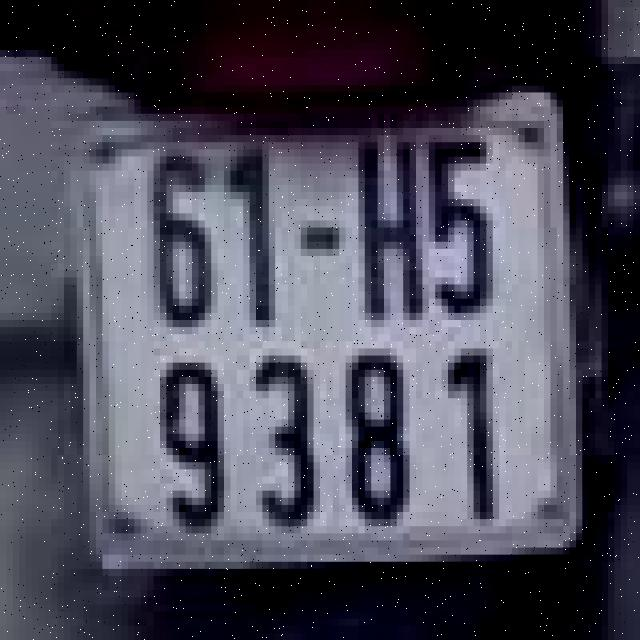1: (227, 139, 285, 345), (448, 342, 512, 526)
3: (253, 348, 323, 534)
5: (432, 132, 502, 324)
6: (140, 149, 218, 327)
8: (340, 345, 422, 530)
9: (154, 352, 236, 537)
H: (346, 124, 428, 330)
